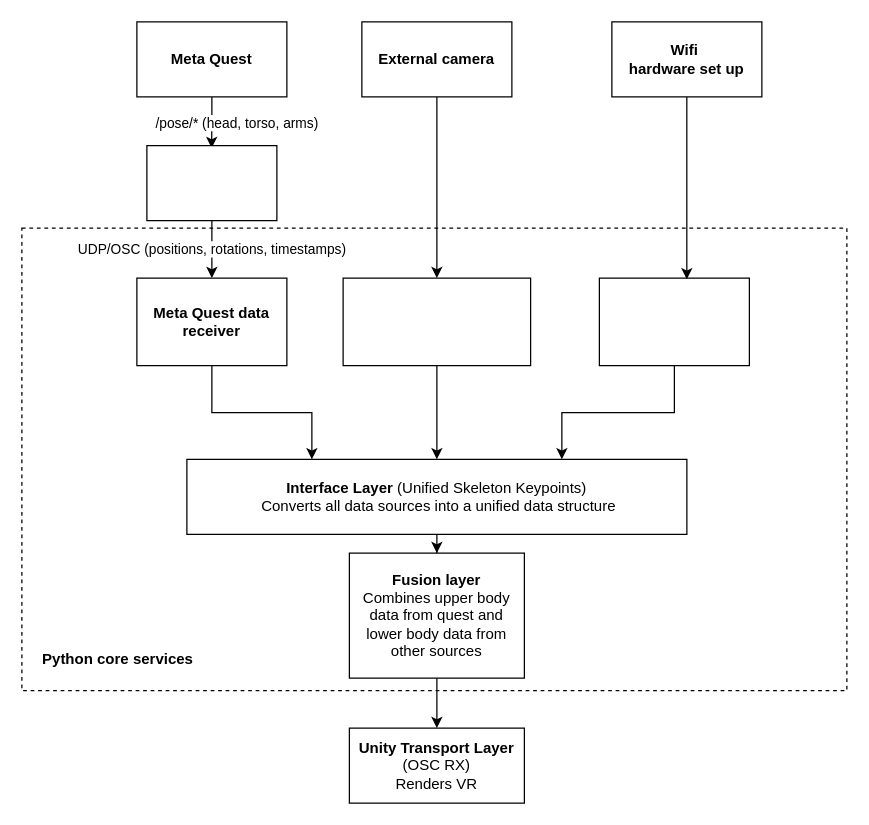
Image size: 869x825. Some labels were removed from this diagram. Here are the shapes that lost their labels. From the top down, the centre of each, then its label:
At (211,182): "Unity Transport Layer (OSC TX)".
At (436,321): "Camera-based HPE model (Mediapipe/Synthpose)".
At (673,321): "Wifi-based HPE model".
